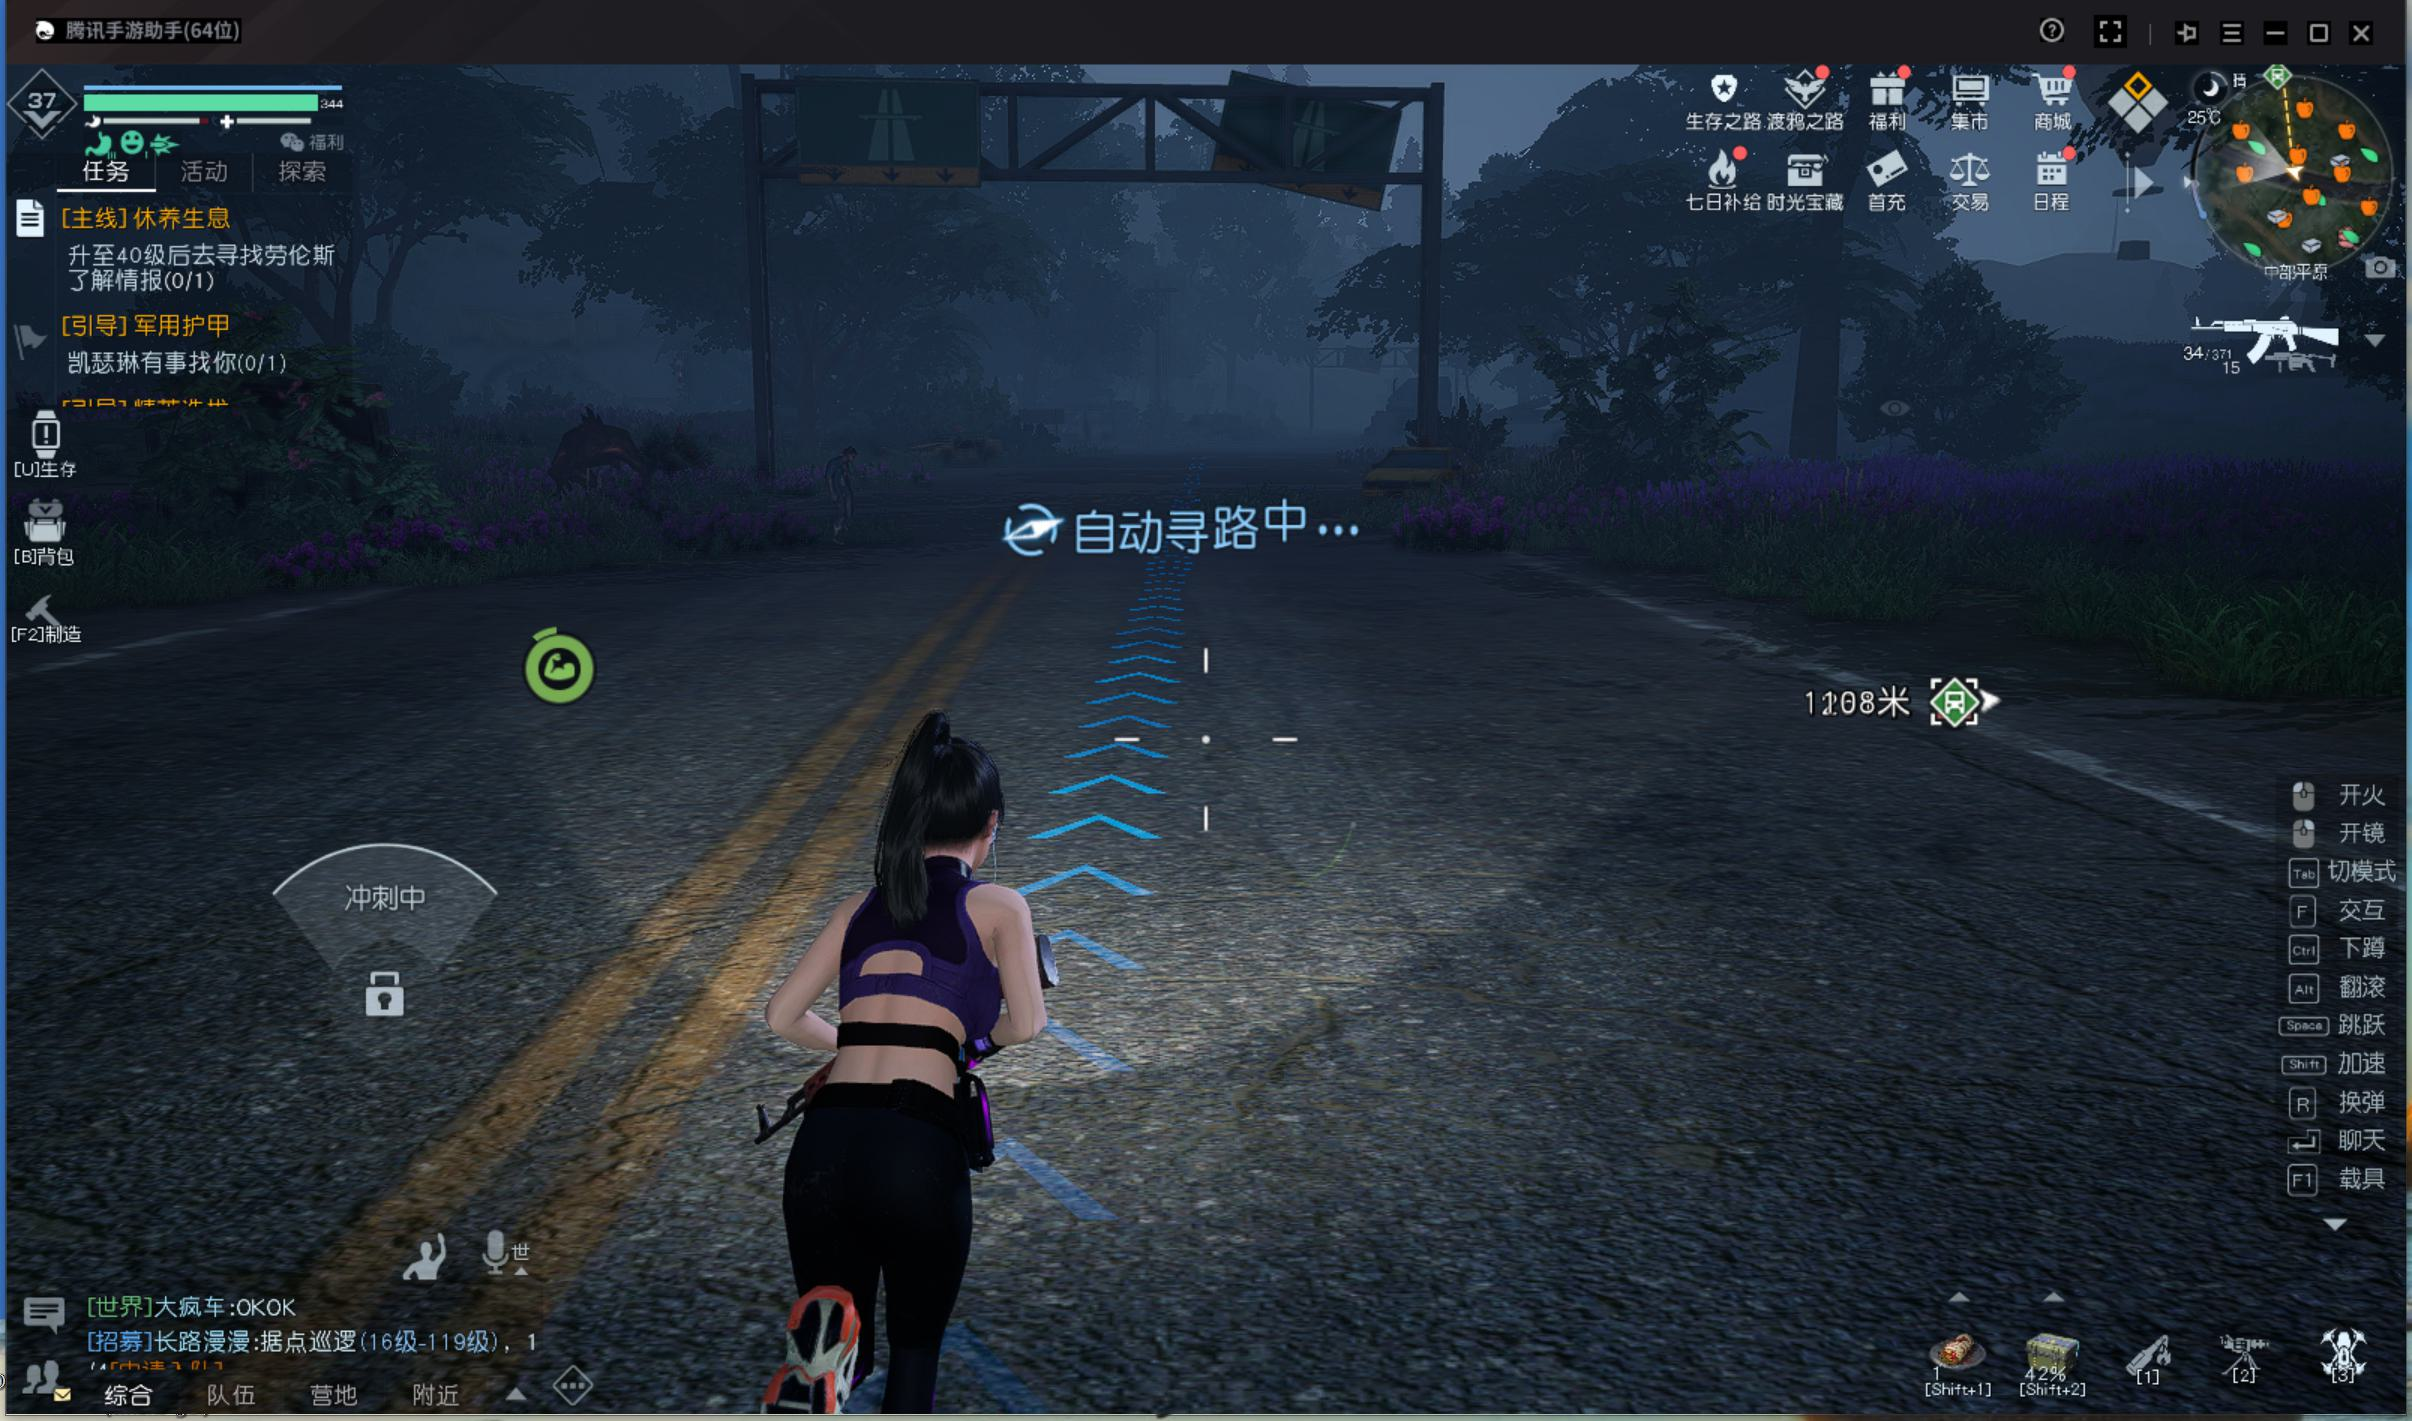tree: (1784, 237, 1859, 479)
